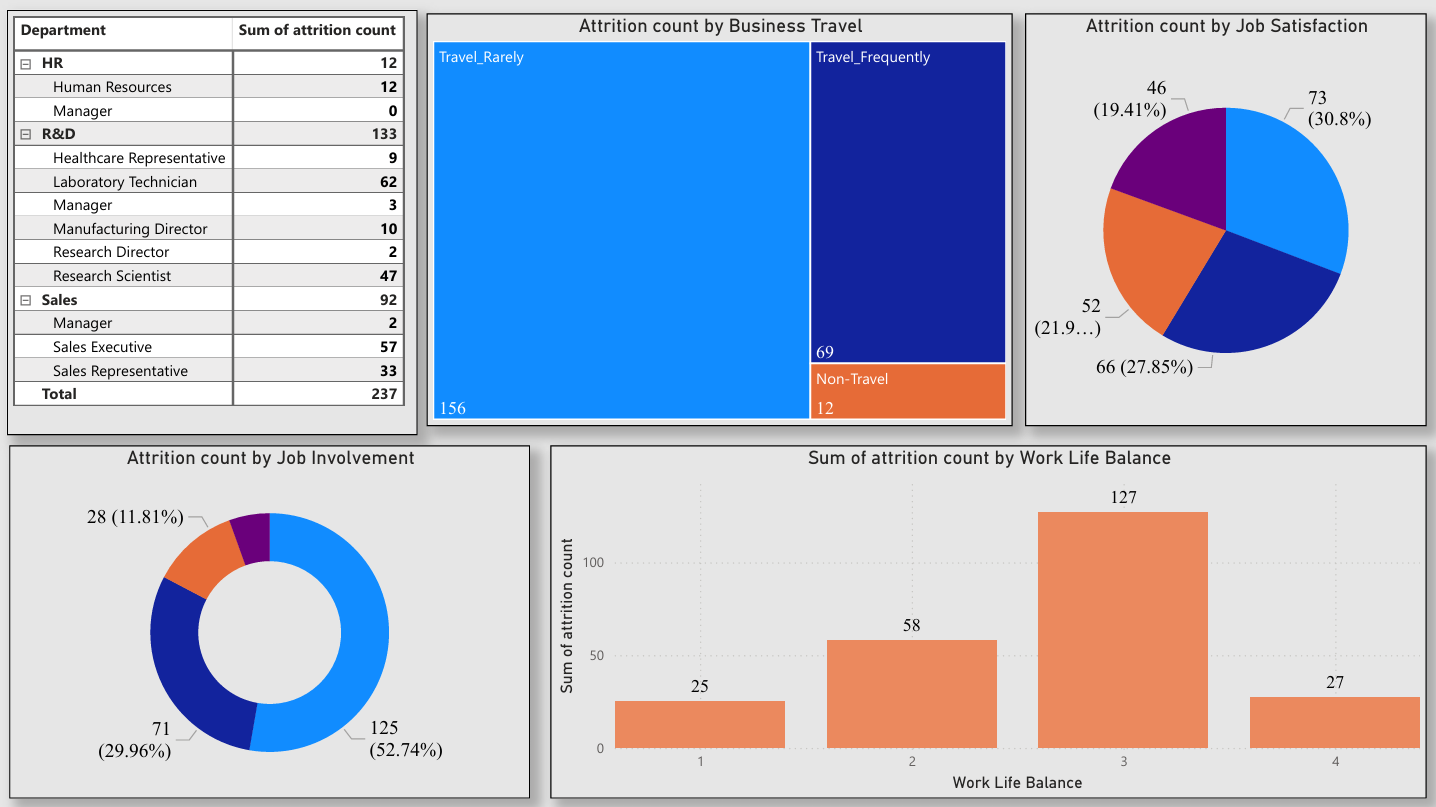

The dashboard page shown, as its layout file describes it:
{"tool":"powerbi","page":{"name":"Page 2","canvas":[1280,720],"ordinal":1},"visuals":[{"type":"pivotTable","fields":{"Rows":["HR data.Department","HR data.Job Role"],"Values":["Sum(HR data.attrition count)"]},"box":[8.4,8.4,364.3,377.6],"z":0},{"type":"treemap","title":"Attrition count by Business Travel","fields":{"Group":["HR data.Business Travel"],"Values":["Sum(HR data.attrition count)"]},"box":[381.2,10.9,521.2,366.8],"z":1},{"type":"donutChart","title":"Attrition count by Job Involvement","fields":{"Category":["HR data.Job Involvement"],"Y":["Sum(HR data.attrition count)"]},"box":[9.7,394.5,463.3,314.9],"z":2},{"type":"pieChart","title":"Attrition count by Job Satisfaction","fields":{"Category":["HR data.Job Satisfaction"],"Y":["Sum(HR data.attrition count)"]},"box":[913.3,10.9,357.1,366.8],"z":3},{"type":"columnChart","fields":{"Category":["HR data.Work Life Balance"],"Y":["Sum(HR data.attrition count)"]},"box":[491,394.5,779.4,314.9],"z":4}]}

Visuals, with their boxes in screenshot pixels (x1, y1, x2, y2), scaled from the page's 1280x720 canvas onto the 1436x807 screenshot:
pivotTable - HR data.Department x HR data.Job Role: rect(9, 9, 418, 433)
"Attrition count by Business Travel" treemap: rect(428, 12, 1012, 423)
"Attrition count by Job Involvement" donutChart: rect(11, 442, 531, 795)
"Attrition count by Job Satisfaction" pieChart: rect(1025, 12, 1425, 423)
columnChart - HR data.Work Life Balance x Sum(HR data.attrition count): rect(551, 442, 1425, 795)
